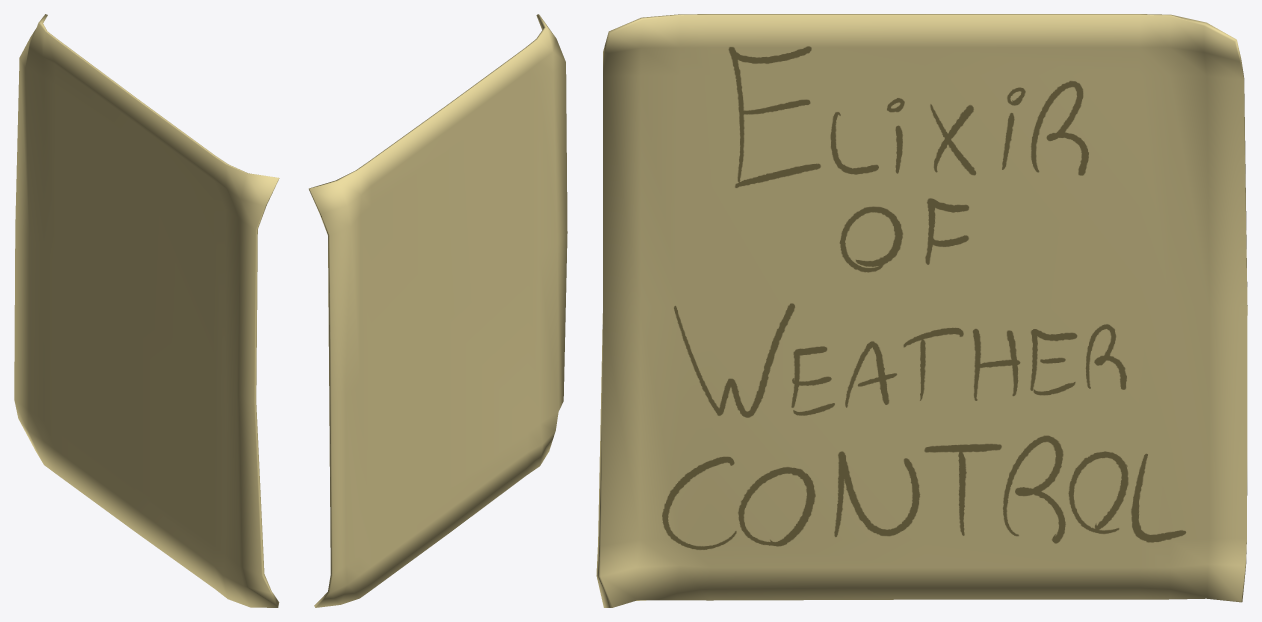
File: papelElixirOfWeatherControl.fbx
3 views of the same model, side by side, from view 1: azimuth 30°, elevation 25°; view 2: azimuth 150°, elevation 25°; view 3: azimuth 270°, elevation 25° (orthographic). The views are drawn at different scales.
Visible parts, largest first — view 1: Papel; view 2: Papel; view 3: Papel.
Part boxes in pixels (<box>): Papel: <box>14,14,279,607</box>; Papel: <box>309,14,567,607</box>; Papel: <box>596,14,1247,607</box>.
Size of the model in its own units: 16.28 by 200 by 202.
